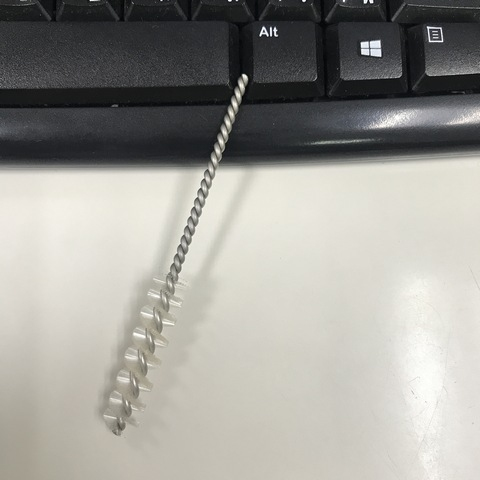Twist Brush-B: (101, 72, 256, 436)
